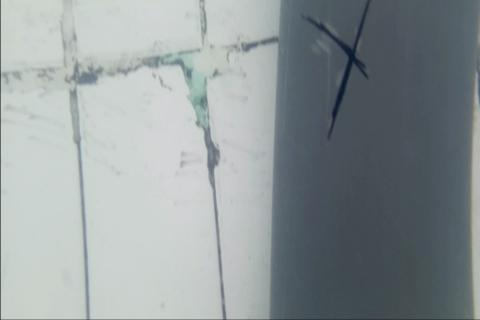keretakan: (303, 0, 374, 143)
